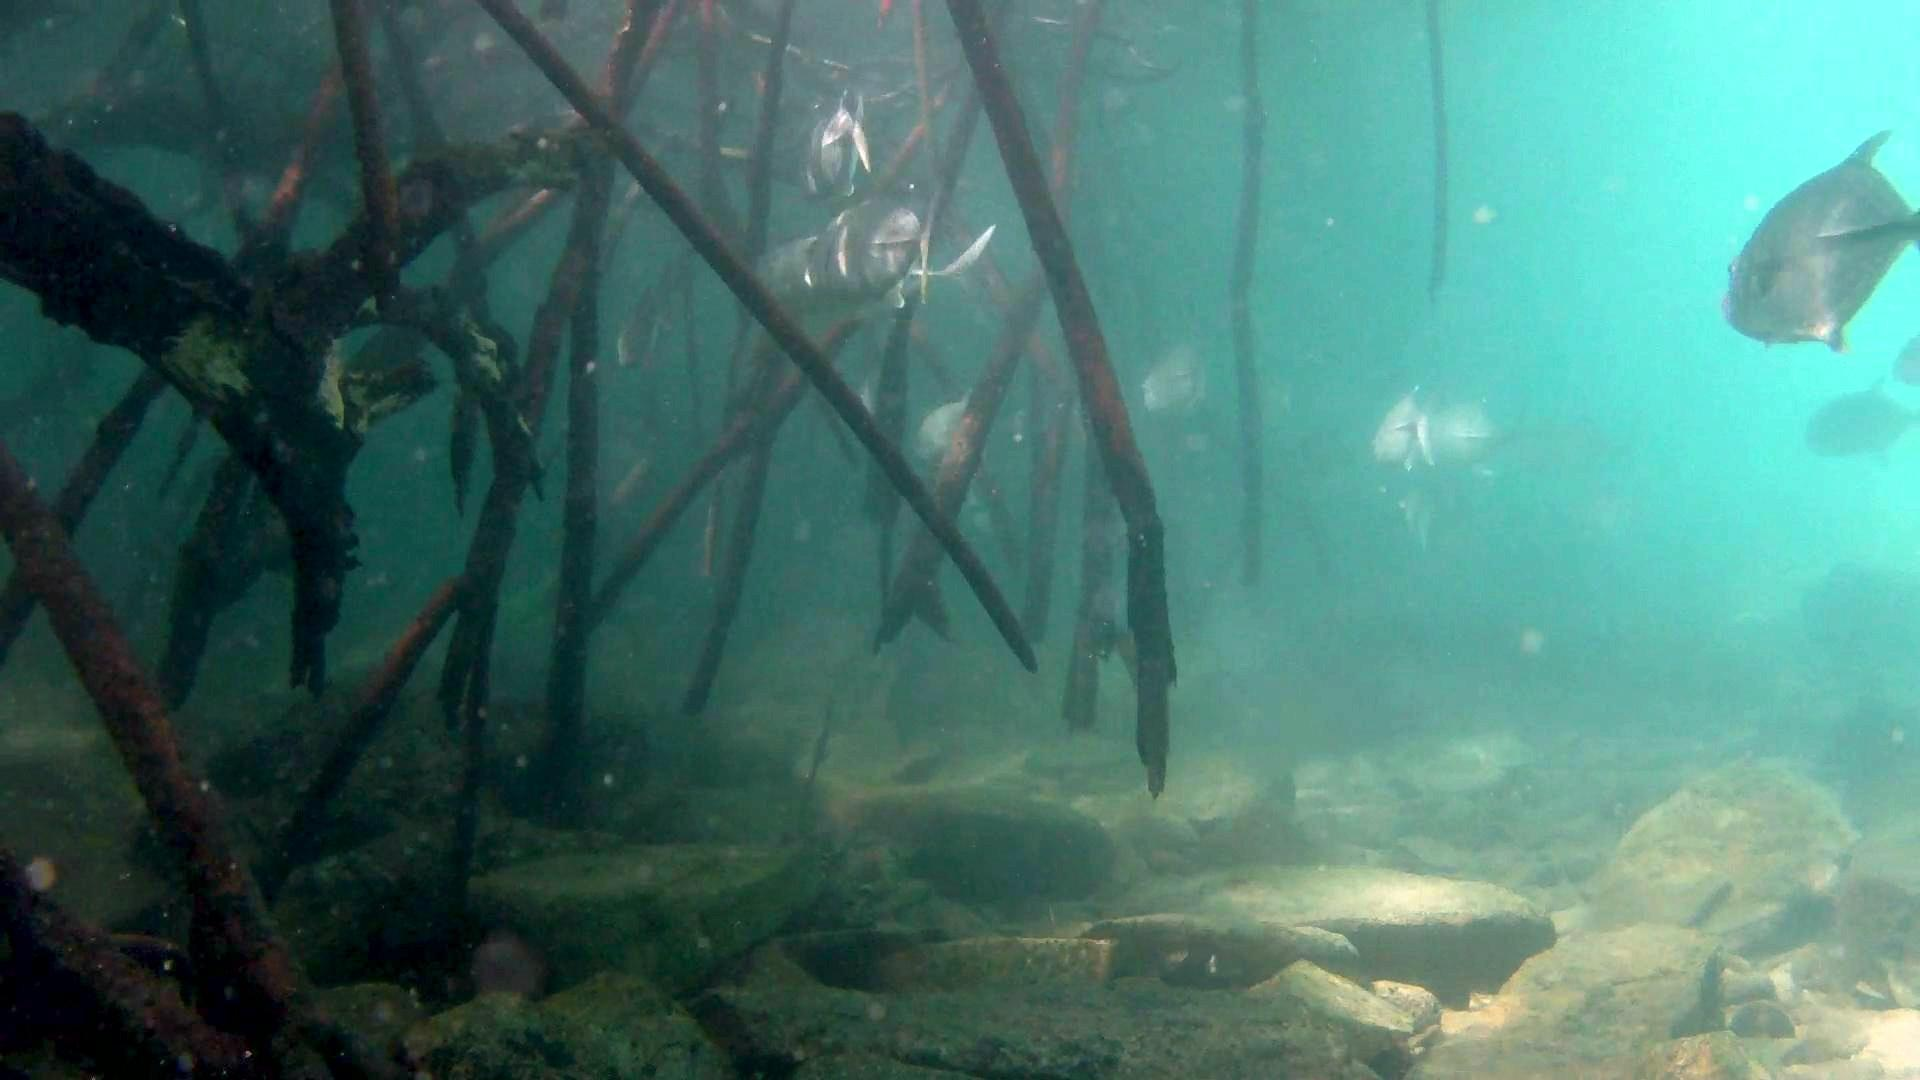caranx: (1714, 119, 1920, 364), (781, 178, 957, 322)
